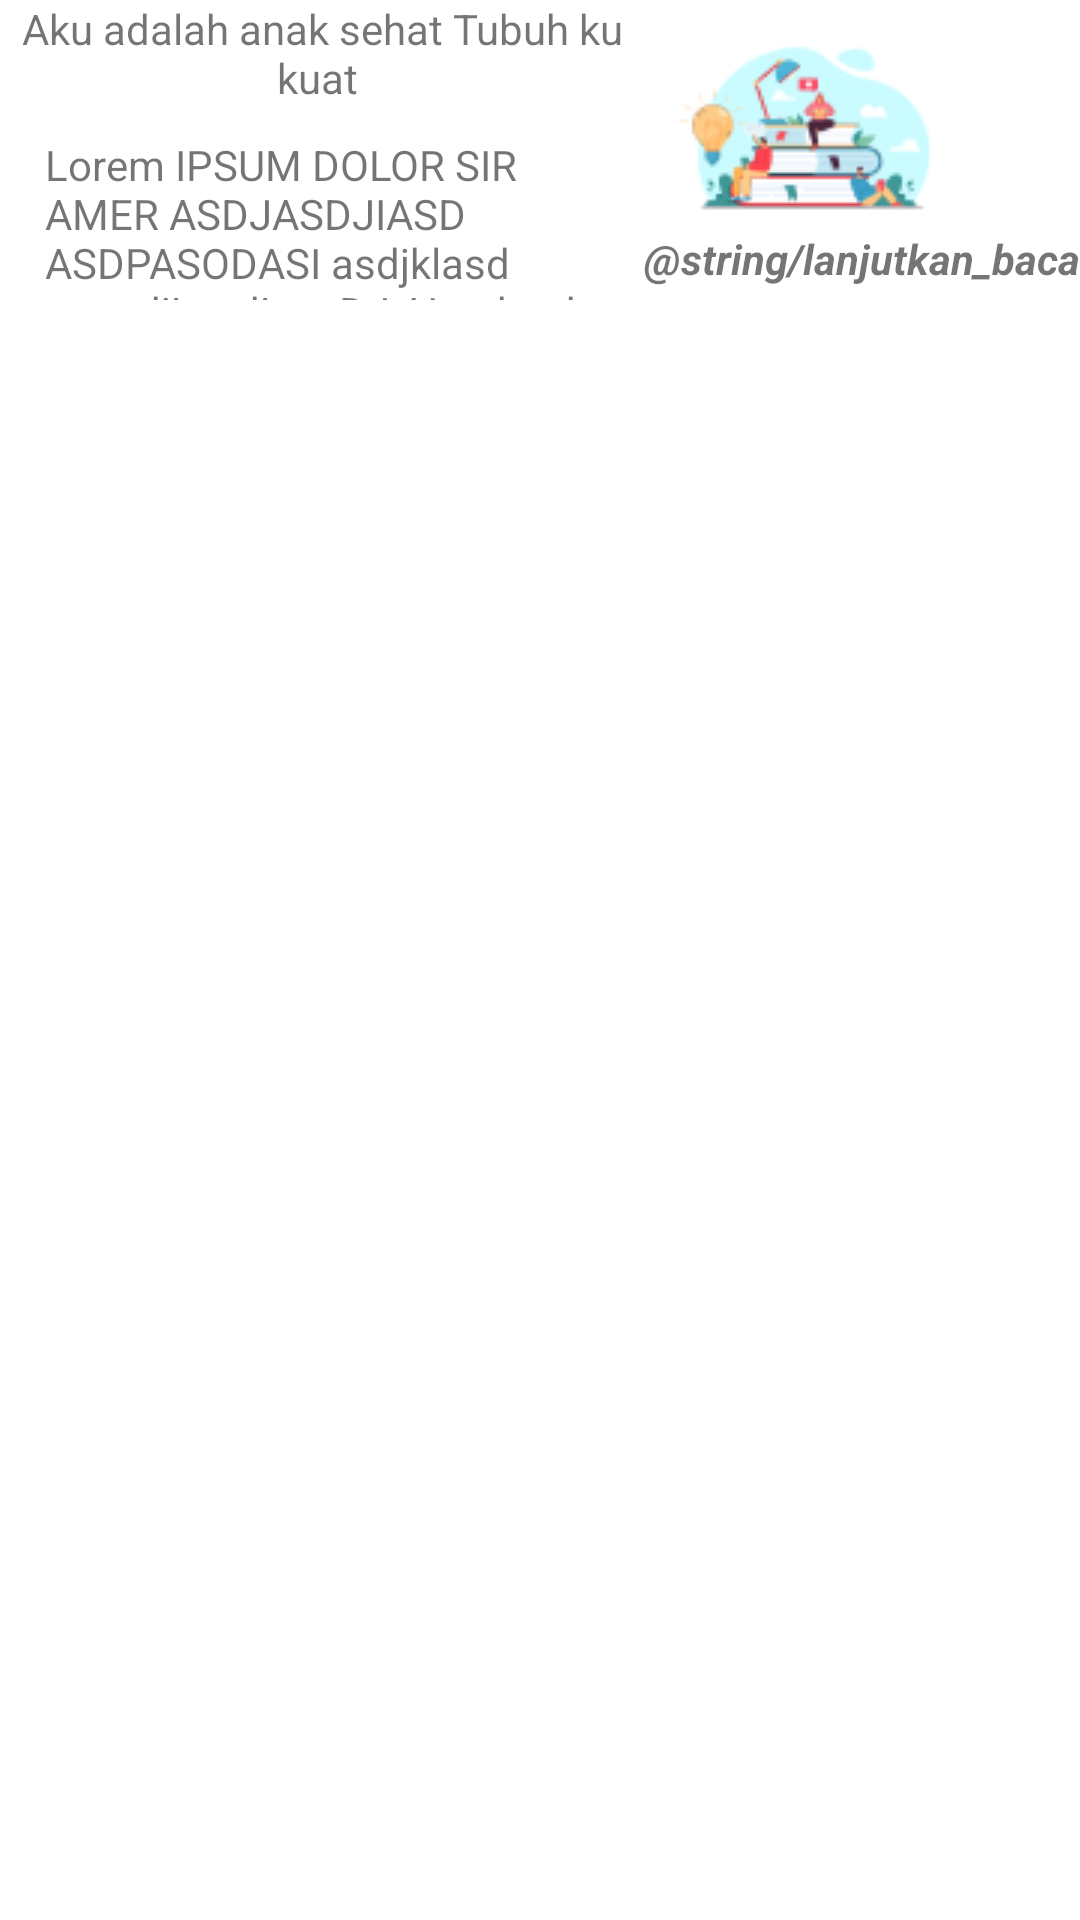

Locate icon controls on the screen. Image size 1080w x 1920h, boxes as (x1, y1, x2, y2).
learning: (680, 47, 930, 210)
